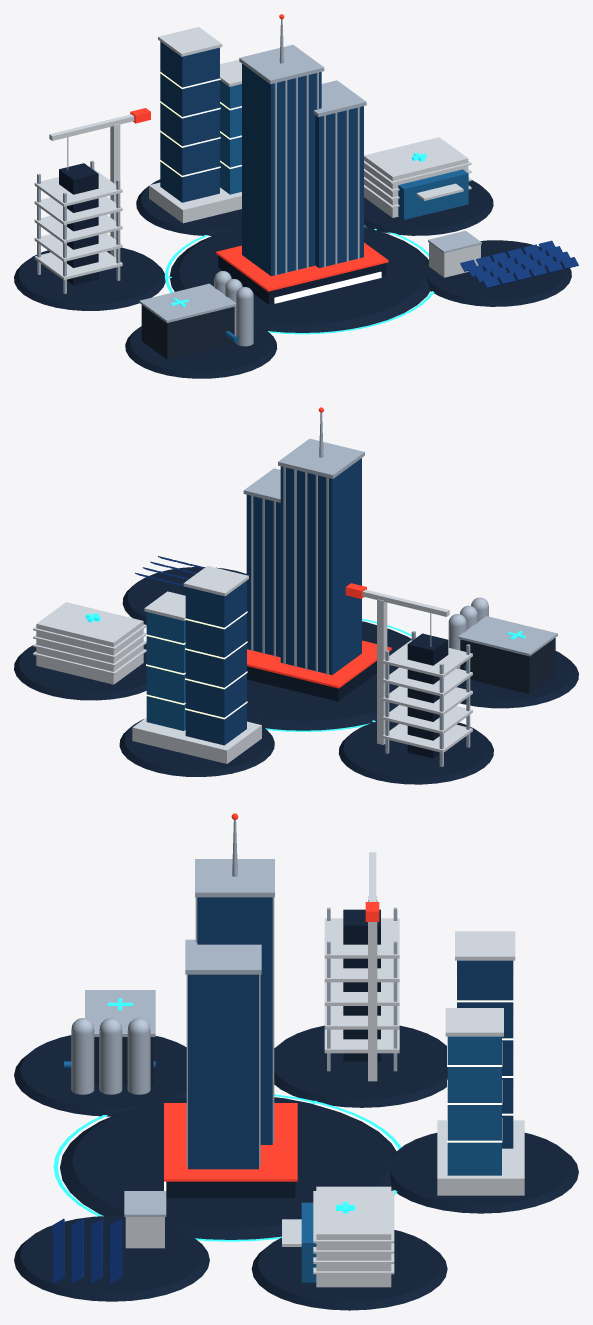
File: park-campus.glb
3 renders of one model, top to bottom at view 1: azimuth 30°, elevation 25°; view 2: azimuth 150°, elevation 25°; view 3: azimuth 270°, elevation 25°, orthographic. The views are drawn at different scales.
Visible parts, largest first — view 1: Sector_real-estate, Sector_contracting, HQ_West_Tower, HQ_Landmark, Sector_industrial-engineering, HQ_Plaza, Sector_healthcare, Sector_solar-energy, HQ_East_Tower, Crane_Boom, Campus_Plaza; view 2: Sector_real-estate, Sector_contracting, HQ_West_Tower, HQ_Landmark, Sector_healthcare, Sector_industrial-engineering, HQ_Plaza, HQ_East_Tower, Sector_solar-energy, Crane_Boom; view 3: Sector_real-estate, Sector_contracting, HQ_Plaza, Sector_healthcare, Sector_industrial-engineering, HQ_Landmark, Sector_solar-energy, HQ_East_Tower, HQ_West_Tower, Campus_Plaza, Crane_Boom.
Part boxes in pixels (left/top/right/bottom): Sector_real-estate: left=136, top=27, right=241, bottom=235; Sector_contracting: left=14, top=123, right=165, bottom=310; HQ_West_Tower: left=242, top=64, right=321, bottom=276; HQ_Landmark: left=216, top=14, right=388, bottom=304; Sector_industrial-engineering: left=125, top=271, right=277, bottom=378; HQ_Plaza: left=169, top=226, right=430, bottom=332; Sector_healthcare: left=364, top=137, right=493, bottom=235; Sector_solar-energy: left=425, top=230, right=578, bottom=306; HQ_East_Tower: left=315, top=106, right=363, bottom=267; Crane_Boom: left=49, top=108, right=150, bottom=170; Campus_Plaza: left=164, top=225, right=434, bottom=334; Sector_real-estate: left=119, top=565, right=274, bottom=776; Sector_contracting: left=338, top=599, right=493, bottom=784; HQ_West_Tower: left=280, top=458, right=361, bottom=674; HQ_Landmark: left=243, top=407, right=391, bottom=701; Sector_healthcare: left=14, top=602, right=146, bottom=700; Sector_industrial-engineering: left=448, top=597, right=578, bottom=708; HQ_Plaza: left=247, top=621, right=411, bottom=730; HQ_East_Tower: left=246, top=495, right=280, bottom=657; Sector_solar-energy: left=122, top=556, right=246, bottom=624; Crane_Boom: left=345, top=583, right=449, bottom=646; Sector_real-estate: left=389, top=931, right=578, bottom=1213; Sector_contracting: left=274, top=896, right=447, bottom=1107; HQ_Plaza: left=60, top=1097, right=396, bottom=1239; Sector_healthcare: left=251, top=1186, right=447, bottom=1310; Sector_industrial-engineering: left=14, top=990, right=186, bottom=1116; HQ_Landmark: left=164, top=813, right=297, bottom=1198; Sector_solar-energy: left=14, top=1191, right=209, bottom=1301; HQ_East_Tower: left=188, top=974, right=258, bottom=1169; HQ_West_Tower: left=197, top=897, right=272, bottom=1144; Campus_Plaza: left=53, top=1094, right=401, bottom=1241; Crane_Boom: left=365, top=852, right=379, bottom=921.
Bounding box in the file's own units: 32.4 × 18.11 × 27.1.
